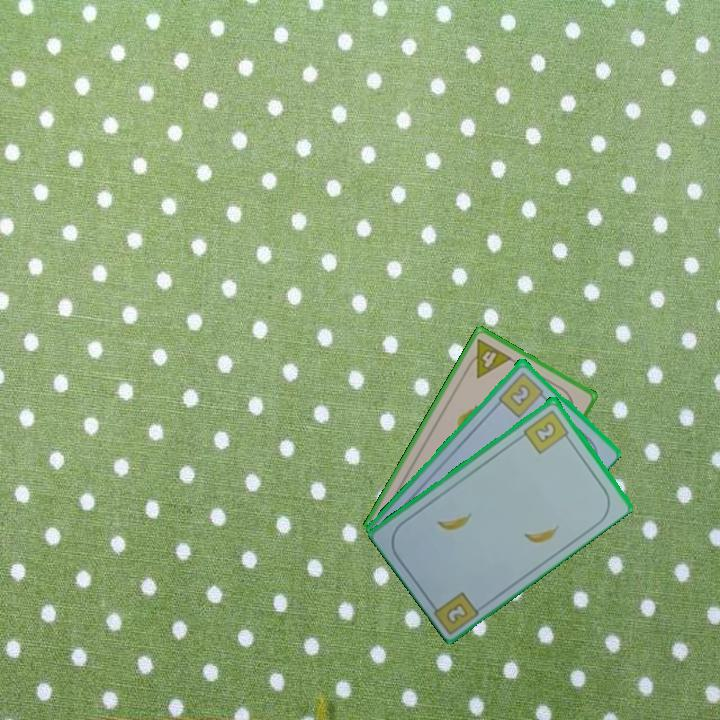2b: (495, 368, 549, 420), (520, 406, 573, 456), (442, 599, 471, 627)
4p: (461, 335, 515, 381)
